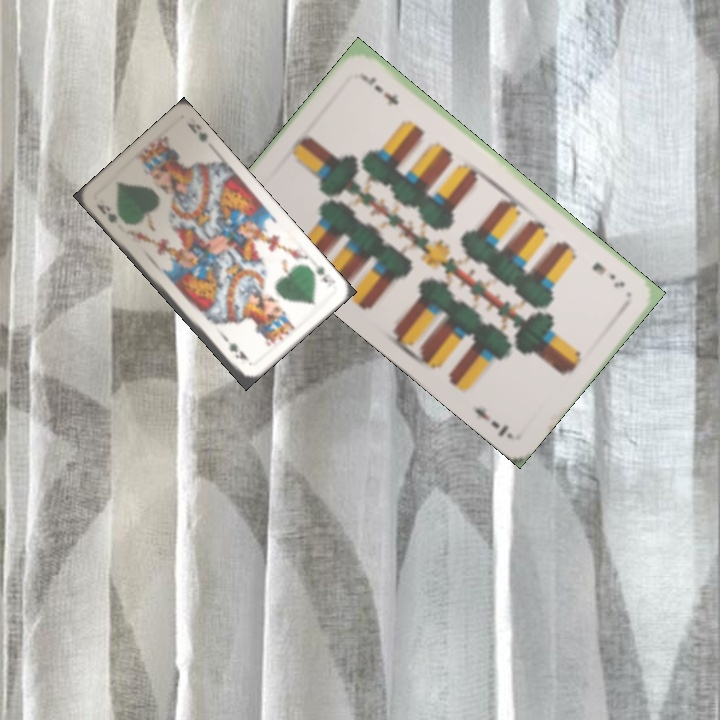E7: (588, 258, 628, 291)
GK: (312, 261, 338, 290), (93, 199, 120, 226)
